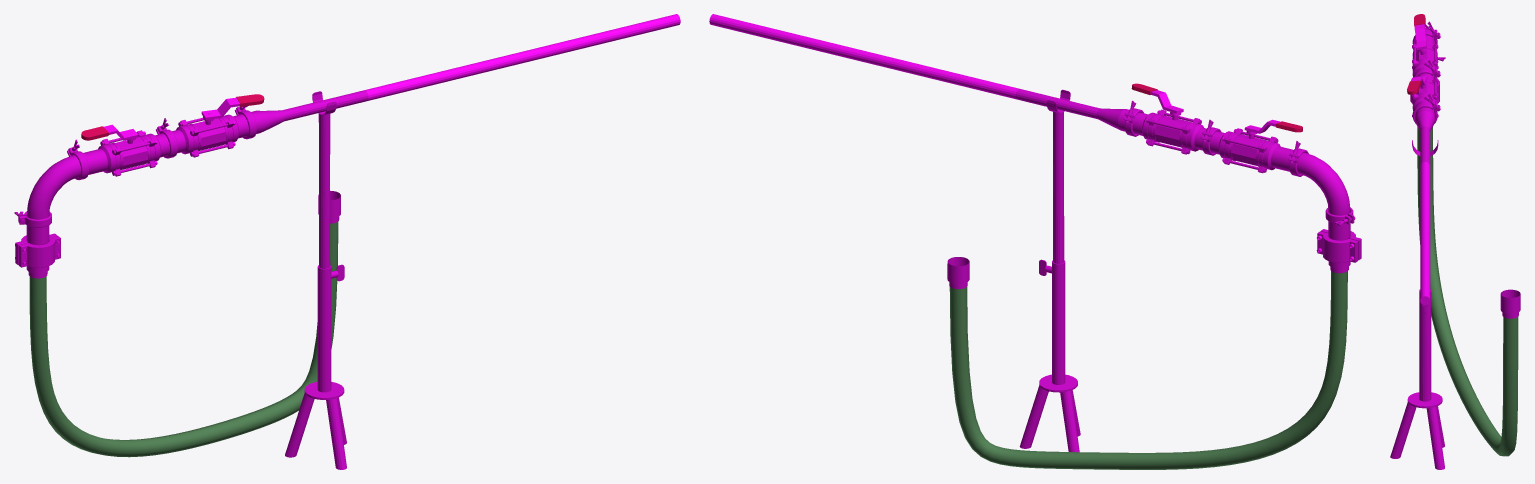
File: flow tube.fbx
3 renders of one model, left to right at view 1: azimuth 30°, elevation 25°; view 2: azimuth 150°, elevation 25°; view 3: azimuth 270°, elevation 25°, orthographic. The views are drawn at different scales.
Visible parts, largest first — view 1: NurbsPath.008; view 2: NurbsPath.008; view 3: NurbsPath.008.
Boxes of the visible parts, x1=… form: NurbsPath.008: x1=14, y1=14, x2=680, y2=469; NurbsPath.008: x1=709, y1=14, x2=1361, y2=469; NurbsPath.008: x1=1390, y1=14, x2=1520, y2=469.
Bounding box in the file's own units: 134 × 74.18 × 25.96.
